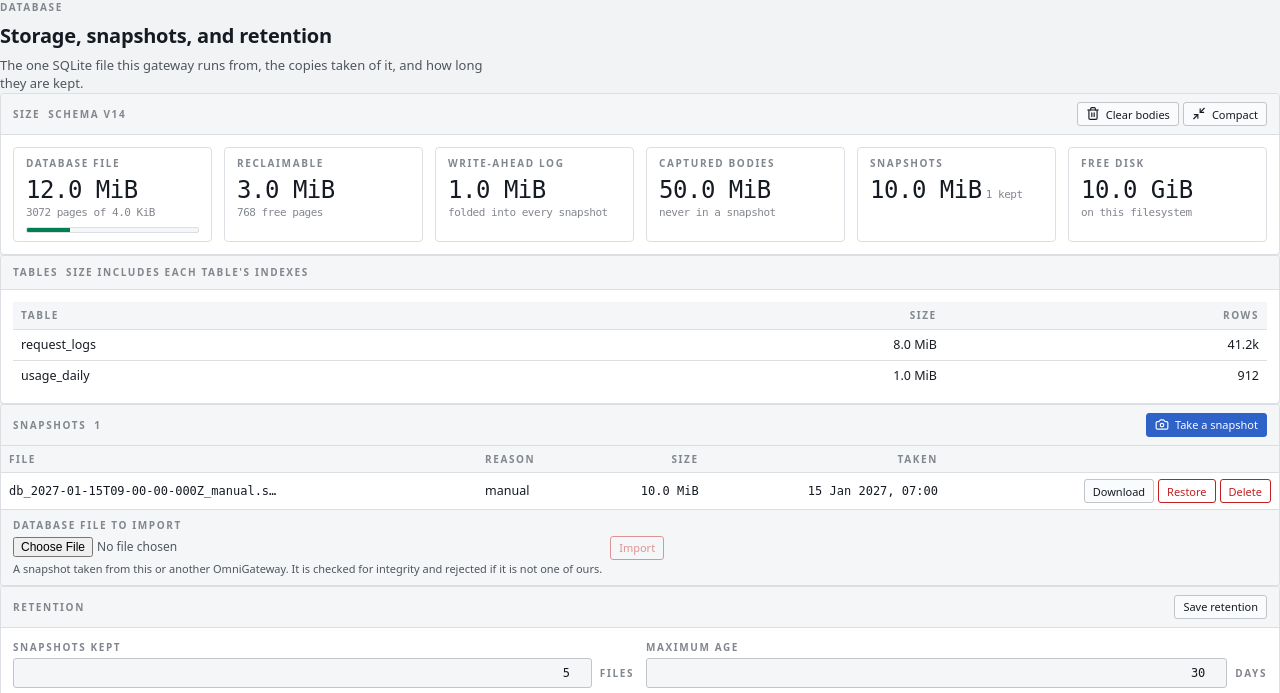
Scenario: DatabaseBoard › clearing bodies asks first and then says how many went
Click the button "Clear bodies". click: (1128, 114)
box: [1077,102,1179,126]
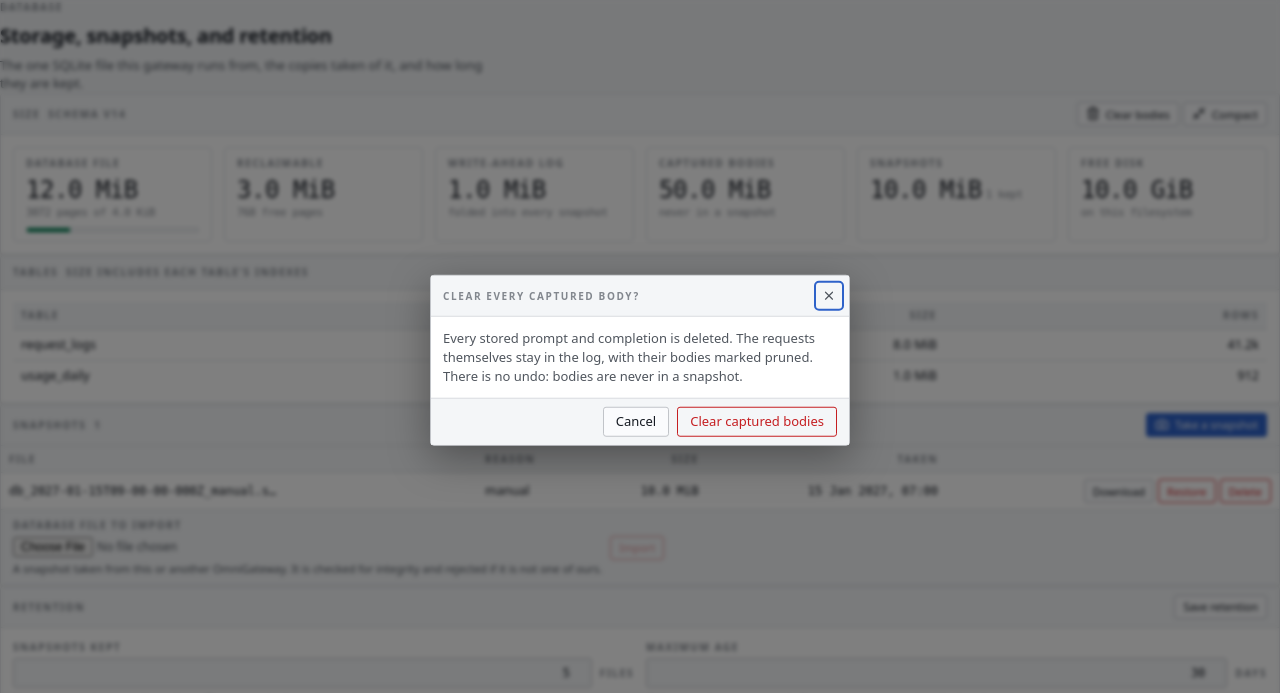
Click the button "Clear captured bodies". click: (757, 421)
box: [677,406,837,436]
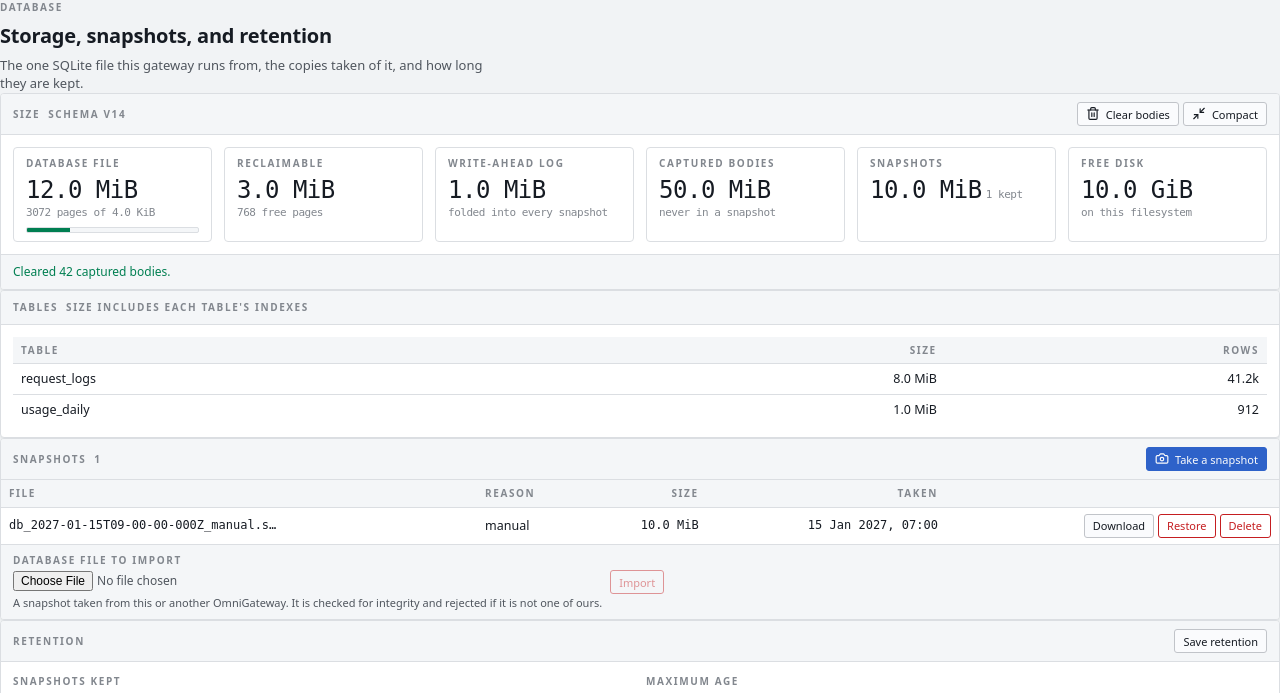
Check: the message shows "42", box [13,263,170,280]
